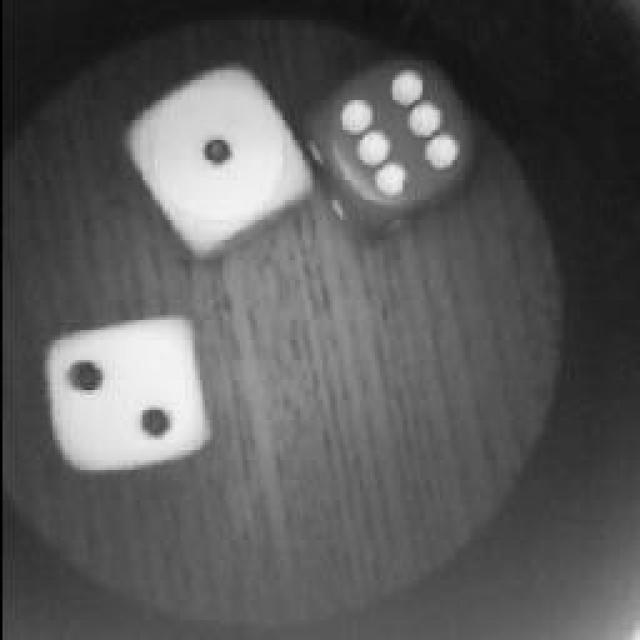dice_1: (115, 68, 310, 258)
dice_2: (38, 312, 218, 482)
dice_6: (305, 45, 477, 235)
